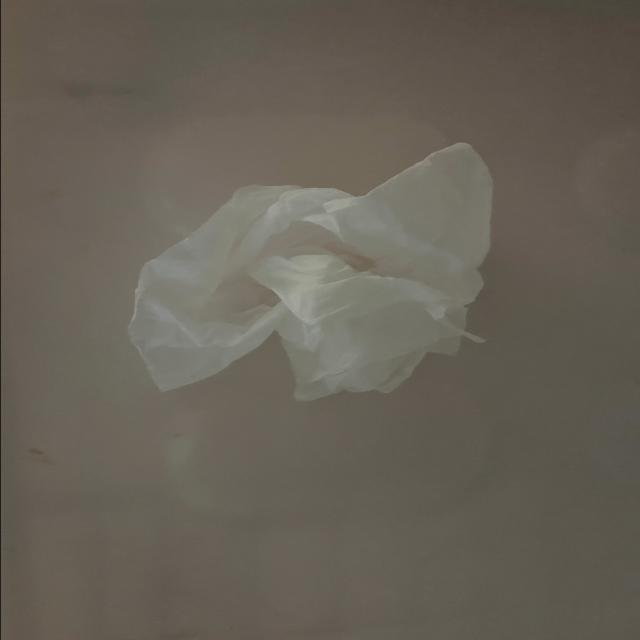Paper: (119, 162, 511, 408)
